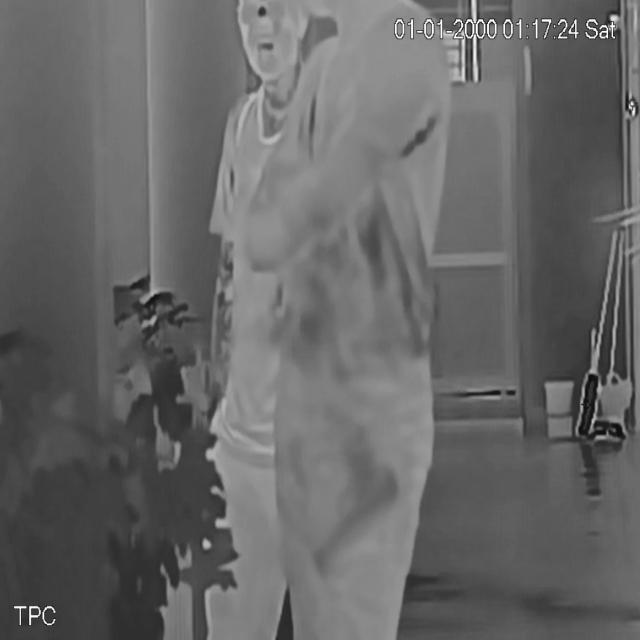Weapon: (306, 425, 404, 583)
